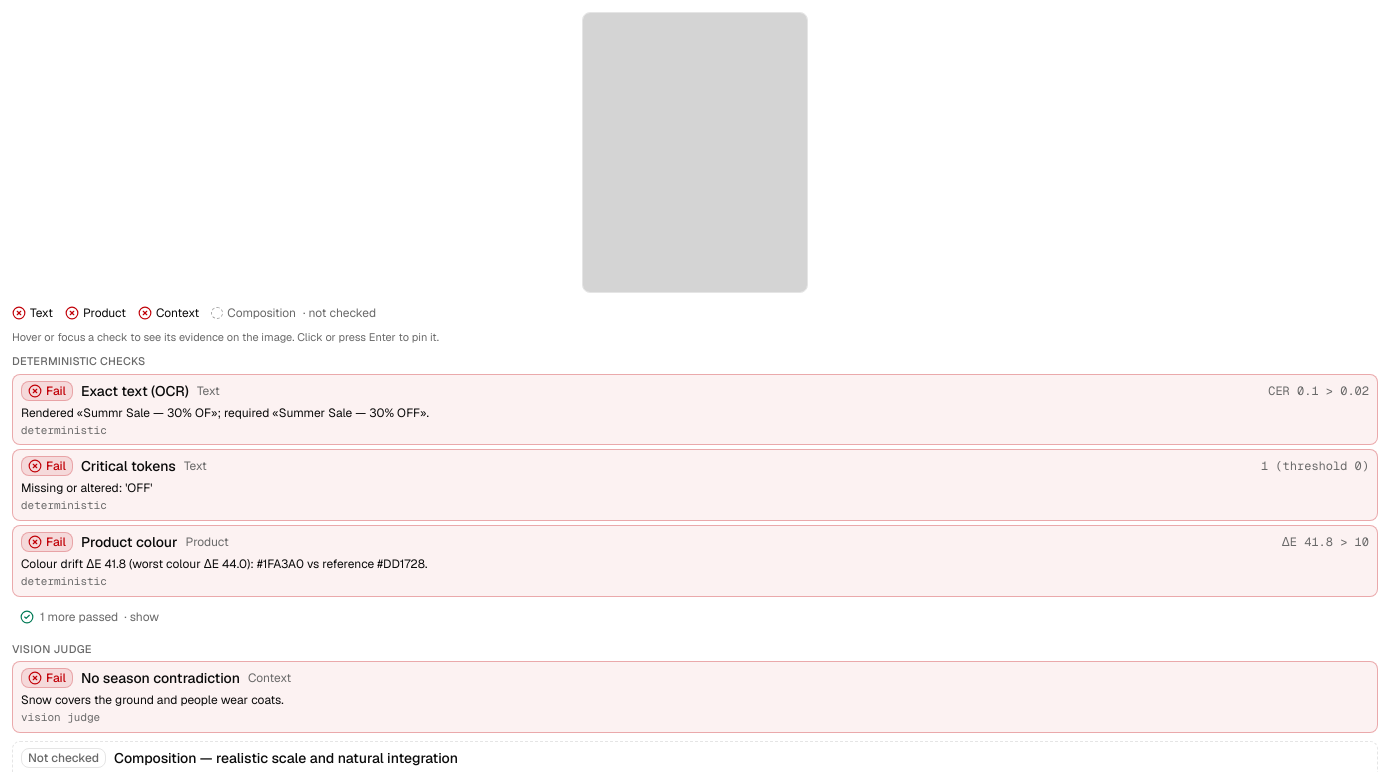
Test: CandidateEvidence › shows the vision judge's quote for a context check (no region)
Hover over the 8th list item at [695, 697], box [12,661,1377,733]
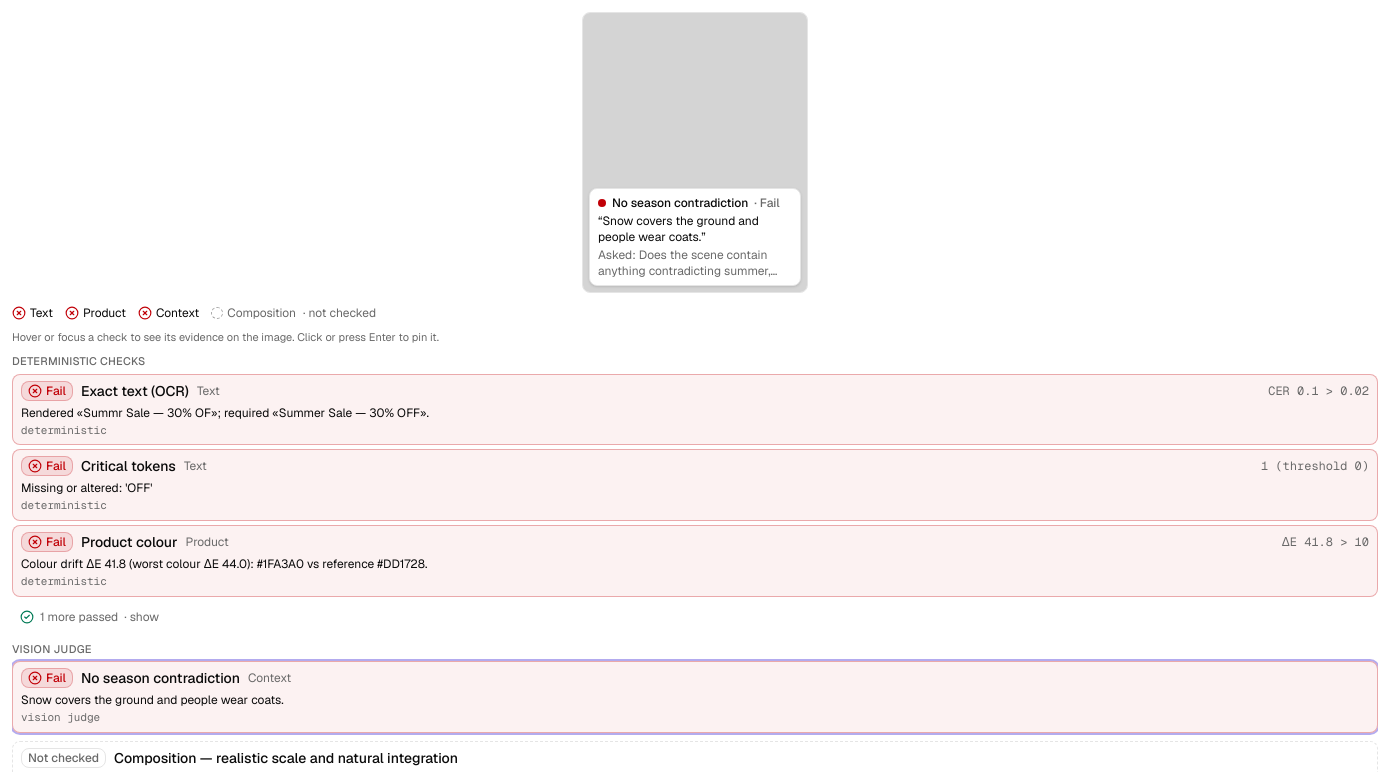
Now the element that starts with "No season contradiction" shows "Snow covers the ground and people wear coats.", box [598,212,759,244]
Now the element that starts with "No season contradiction" shows "Asked: Does the scene contain", box [589,188,801,286]
